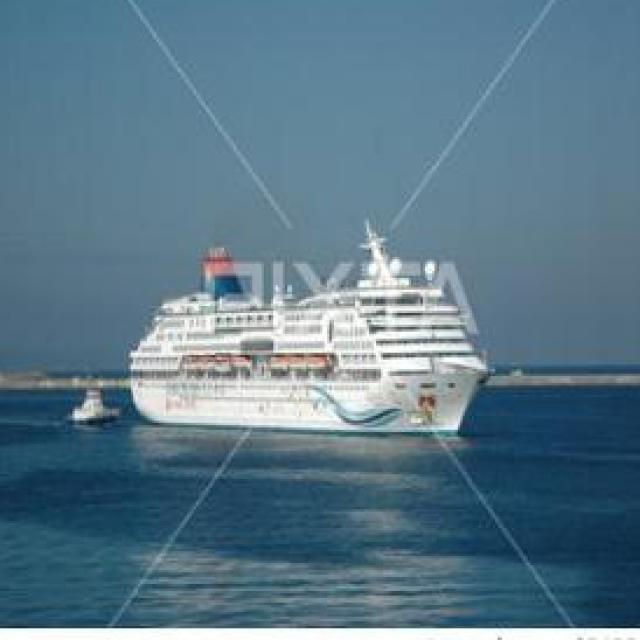houseboat: (67, 378, 115, 425)
passenger ship: (138, 242, 474, 439)
